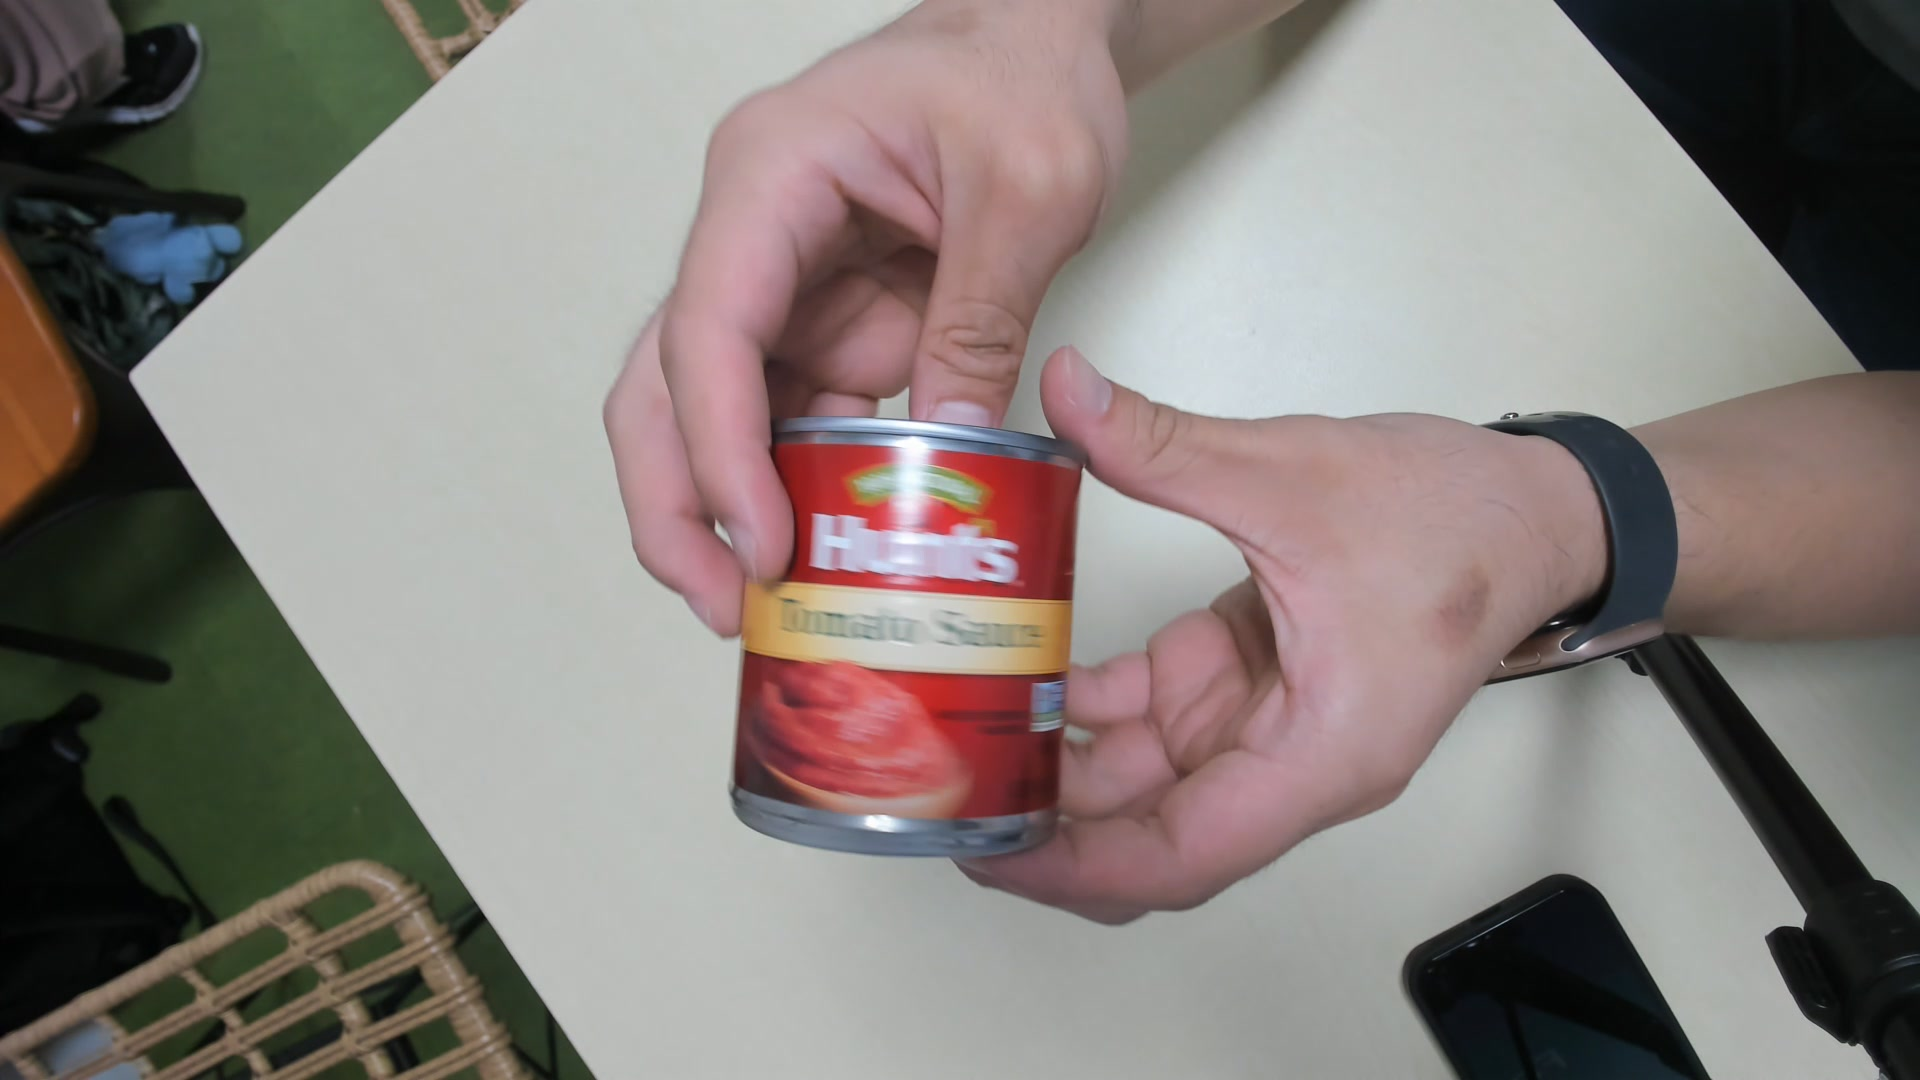OtherSauceDressing_200-299g_NonHalal_NonHealthy: (719, 421, 1065, 864)
